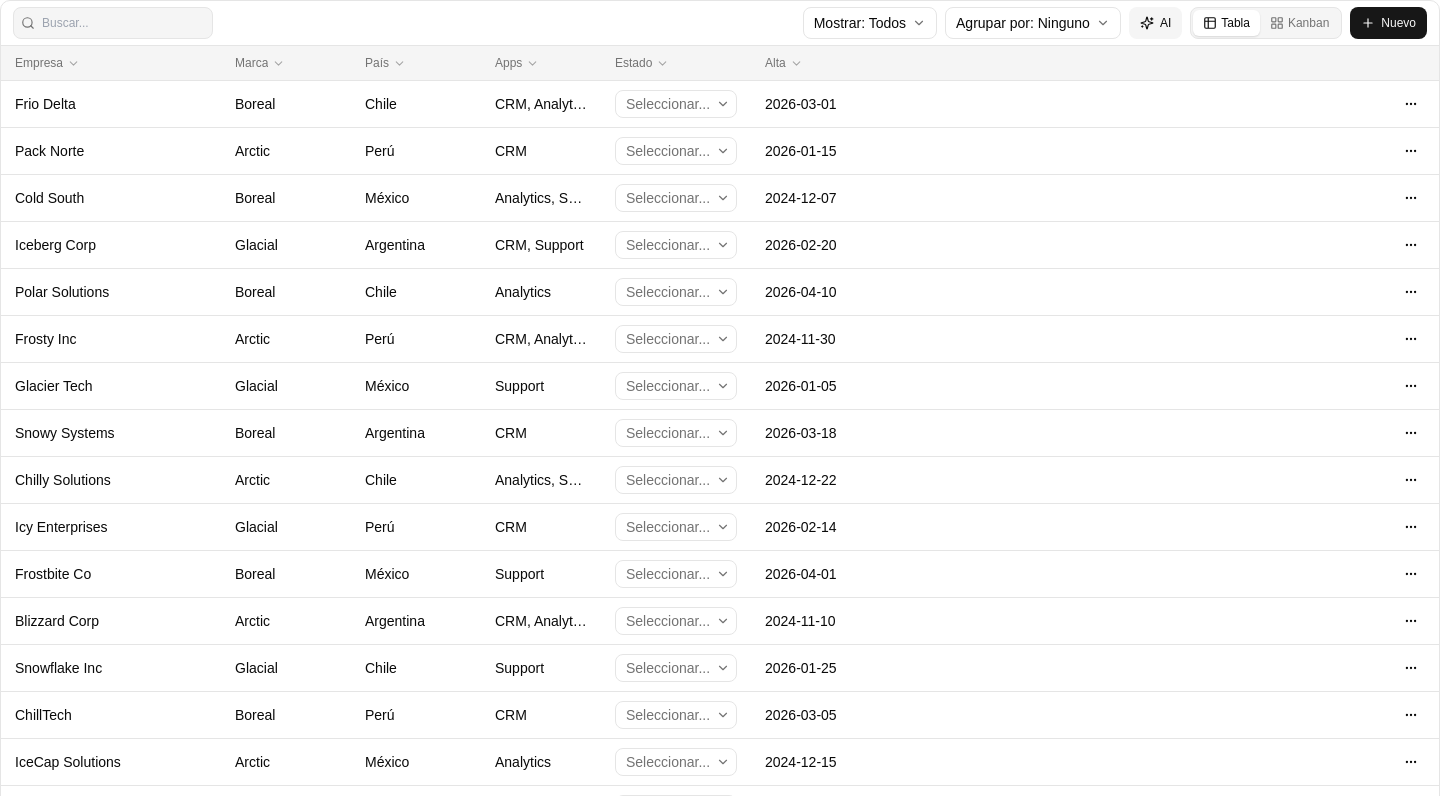
Test: a react-day-picker locale also translates the calendar's accessible names
Click the button "Alta": (811, 63) [765,54,857,72]
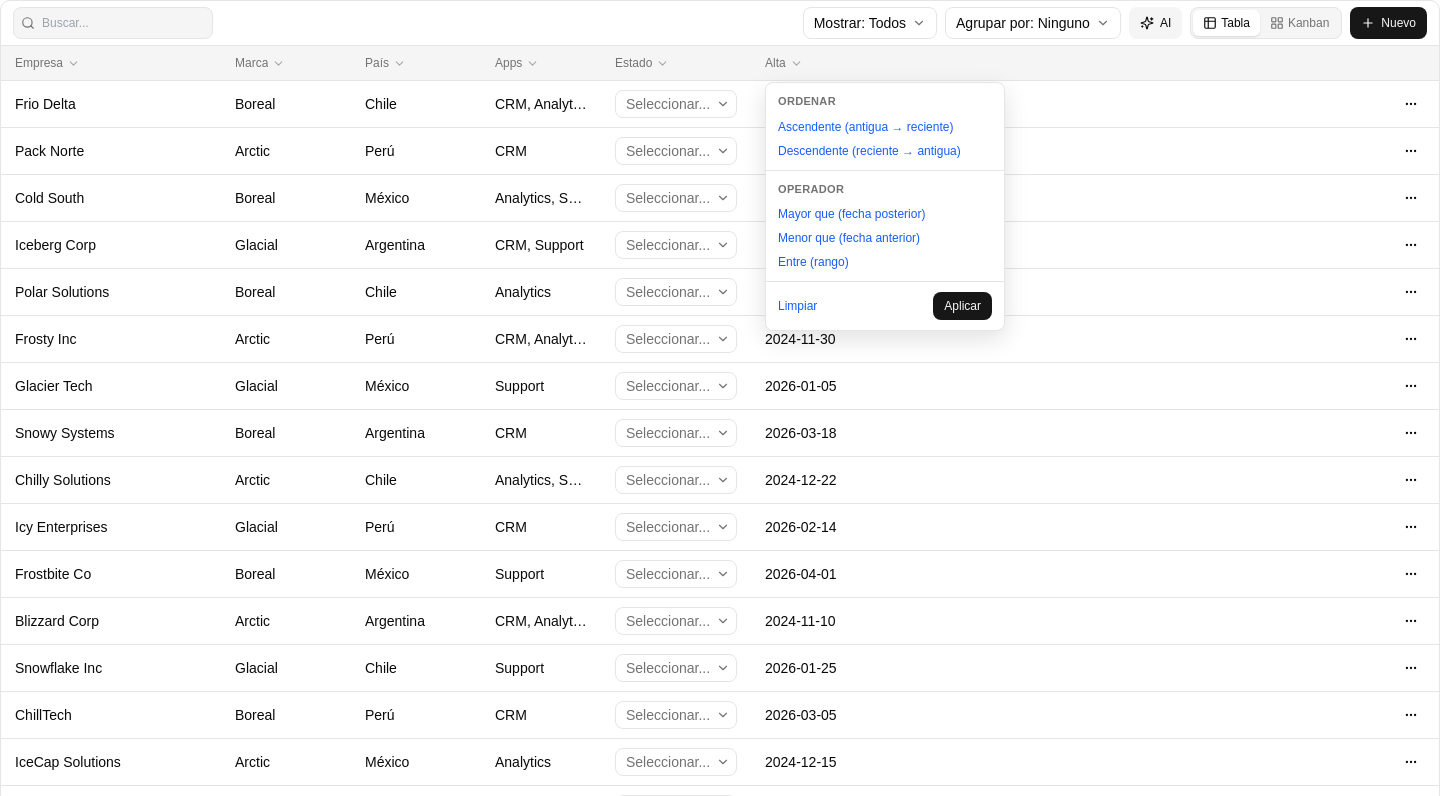
Click the button "Entre (rango)": (885, 262) [778,253,992,271]
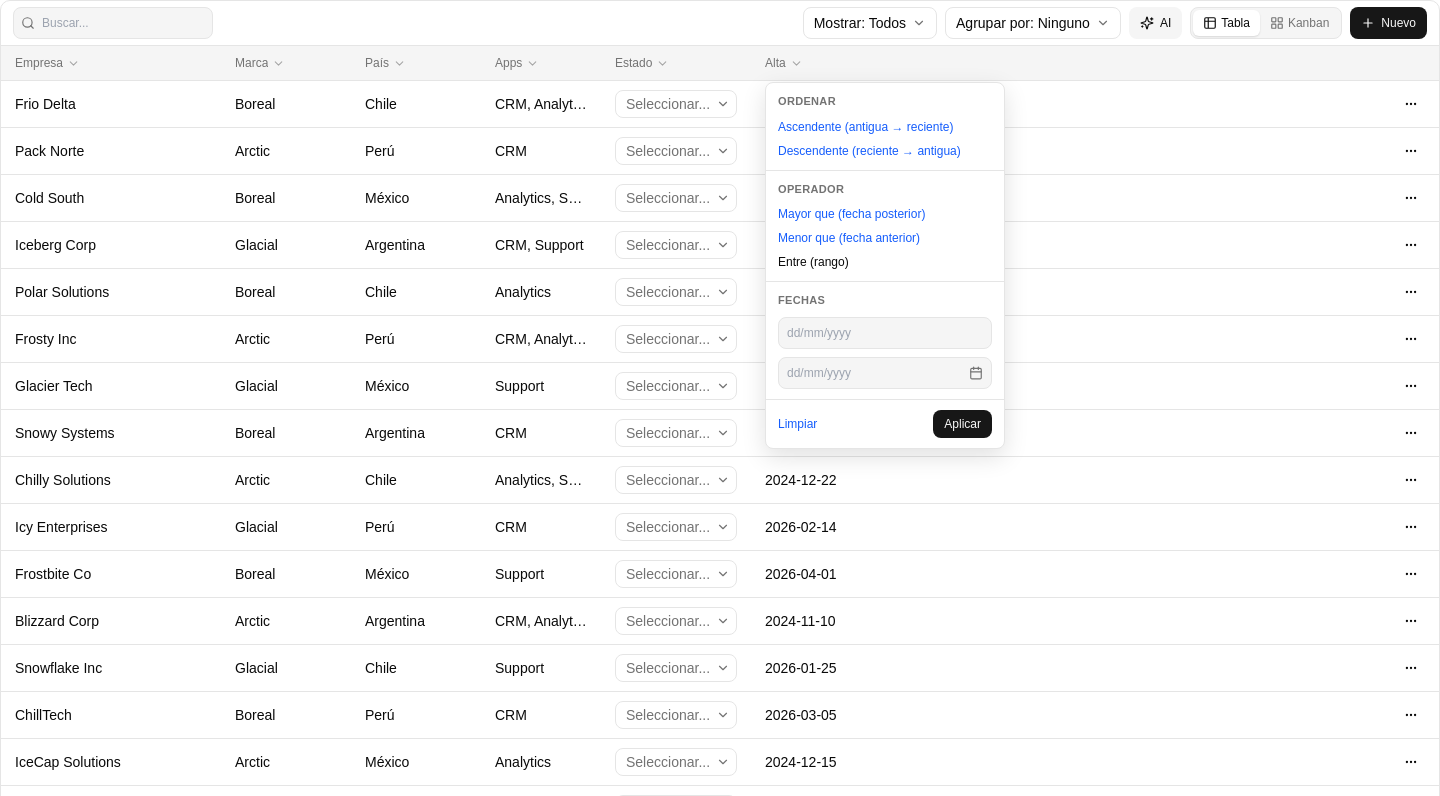
Click the button named "Seleccionar rango": (976, 372) [964,360,988,384]
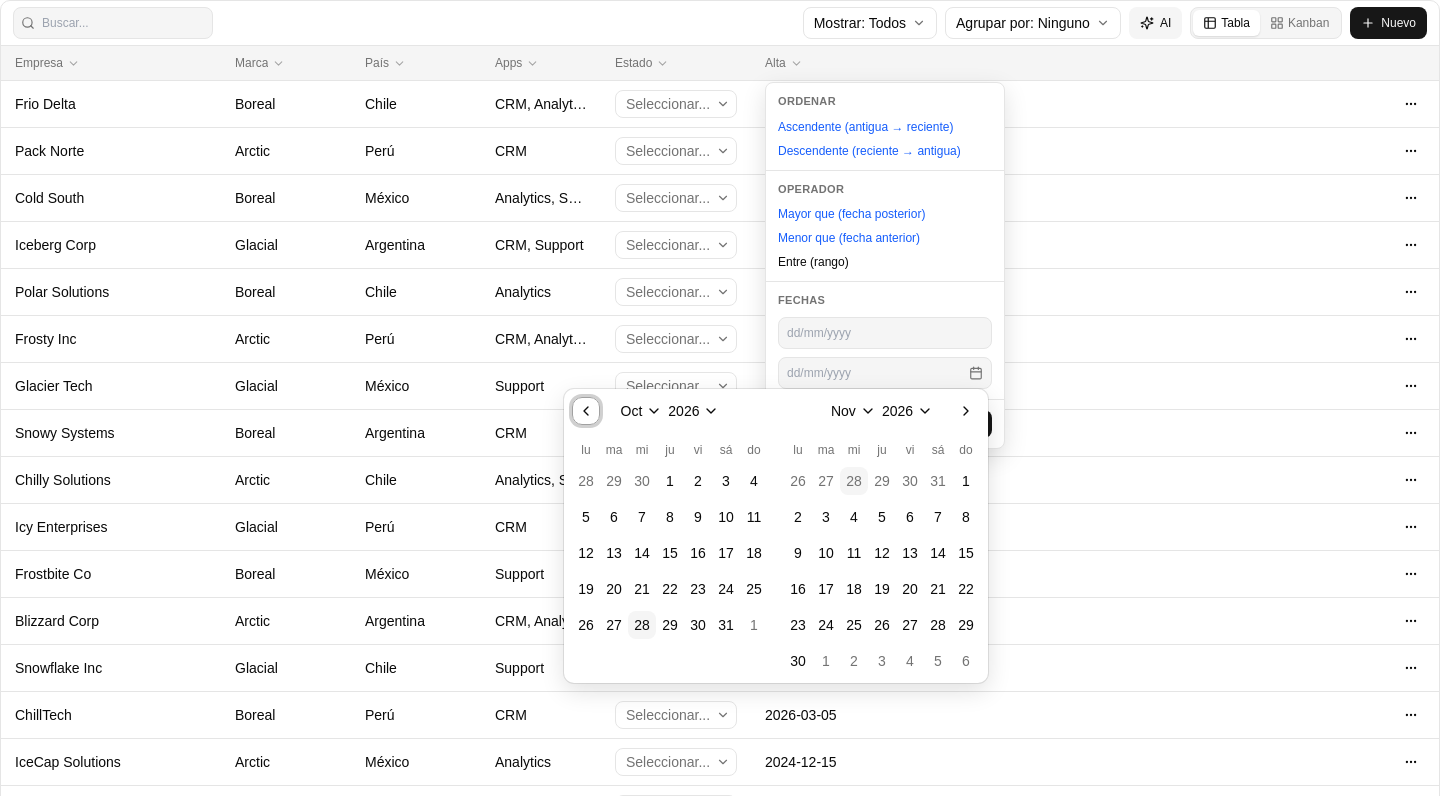
Now the button named "Ir al mes anterior" is shown, box [572,397,600,425]
